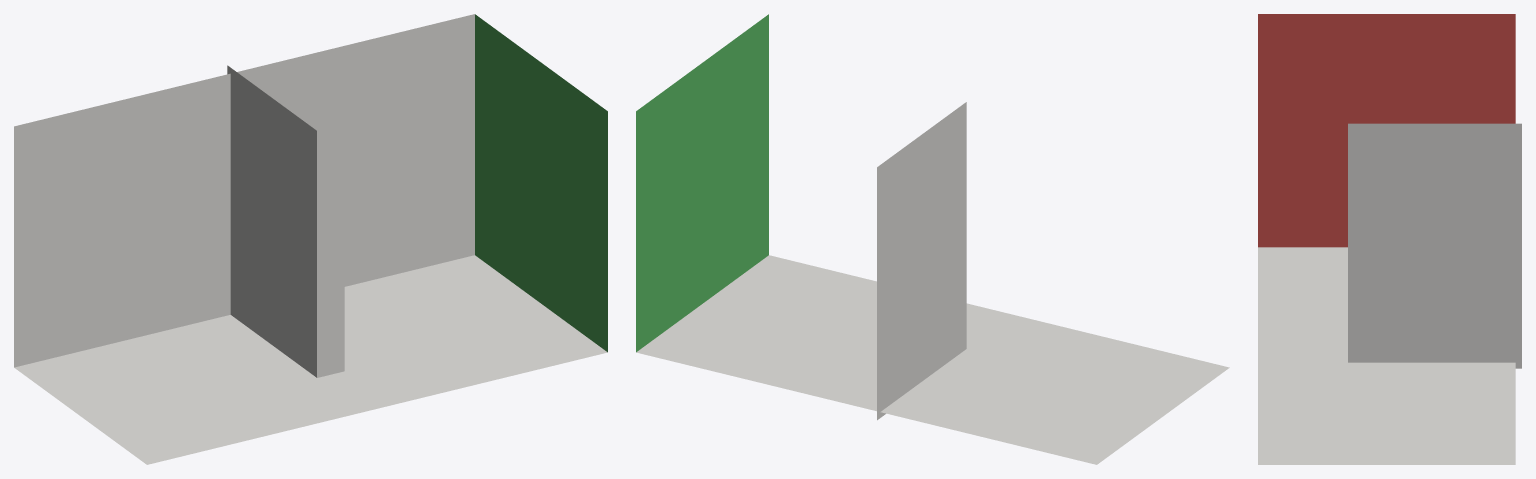
The model's file is cornell_rooms.gltf.
3 renders of one model, left to right at view 1: azimuth 30°, elevation 25°; view 2: azimuth 150°, elevation 25°; view 3: azimuth 270°, elevation 25°, orthographic. The views are drawn at different scales.
Visible parts, largest first — view 1: rooms_shell, rooms_floor, rooms_right_green, rooms_partition; view 2: rooms_floor, rooms_right_green, rooms_partition; view 3: rooms_partition, rooms_left_red, rooms_floor.
Boxes of the visible parts, <box> form: rooms_shell: <box>14,14,474,367</box>; rooms_floor: <box>14,255,607,464</box>; rooms_right_green: <box>475,14,607,352</box>; rooms_partition: <box>227,65,344,377</box>; rooms_floor: <box>636,255,1229,464</box>; rooms_right_green: <box>636,14,768,352</box>; rooms_partition: <box>877,102,966,420</box>; rooms_partition: <box>1348,123,1521,368</box>; rooms_left_red: <box>1258,14,1515,247</box>; rooms_floor: <box>1258,247,1515,464</box>.
Size of the model in its own units: 4 by 2.1 by 2.05.
